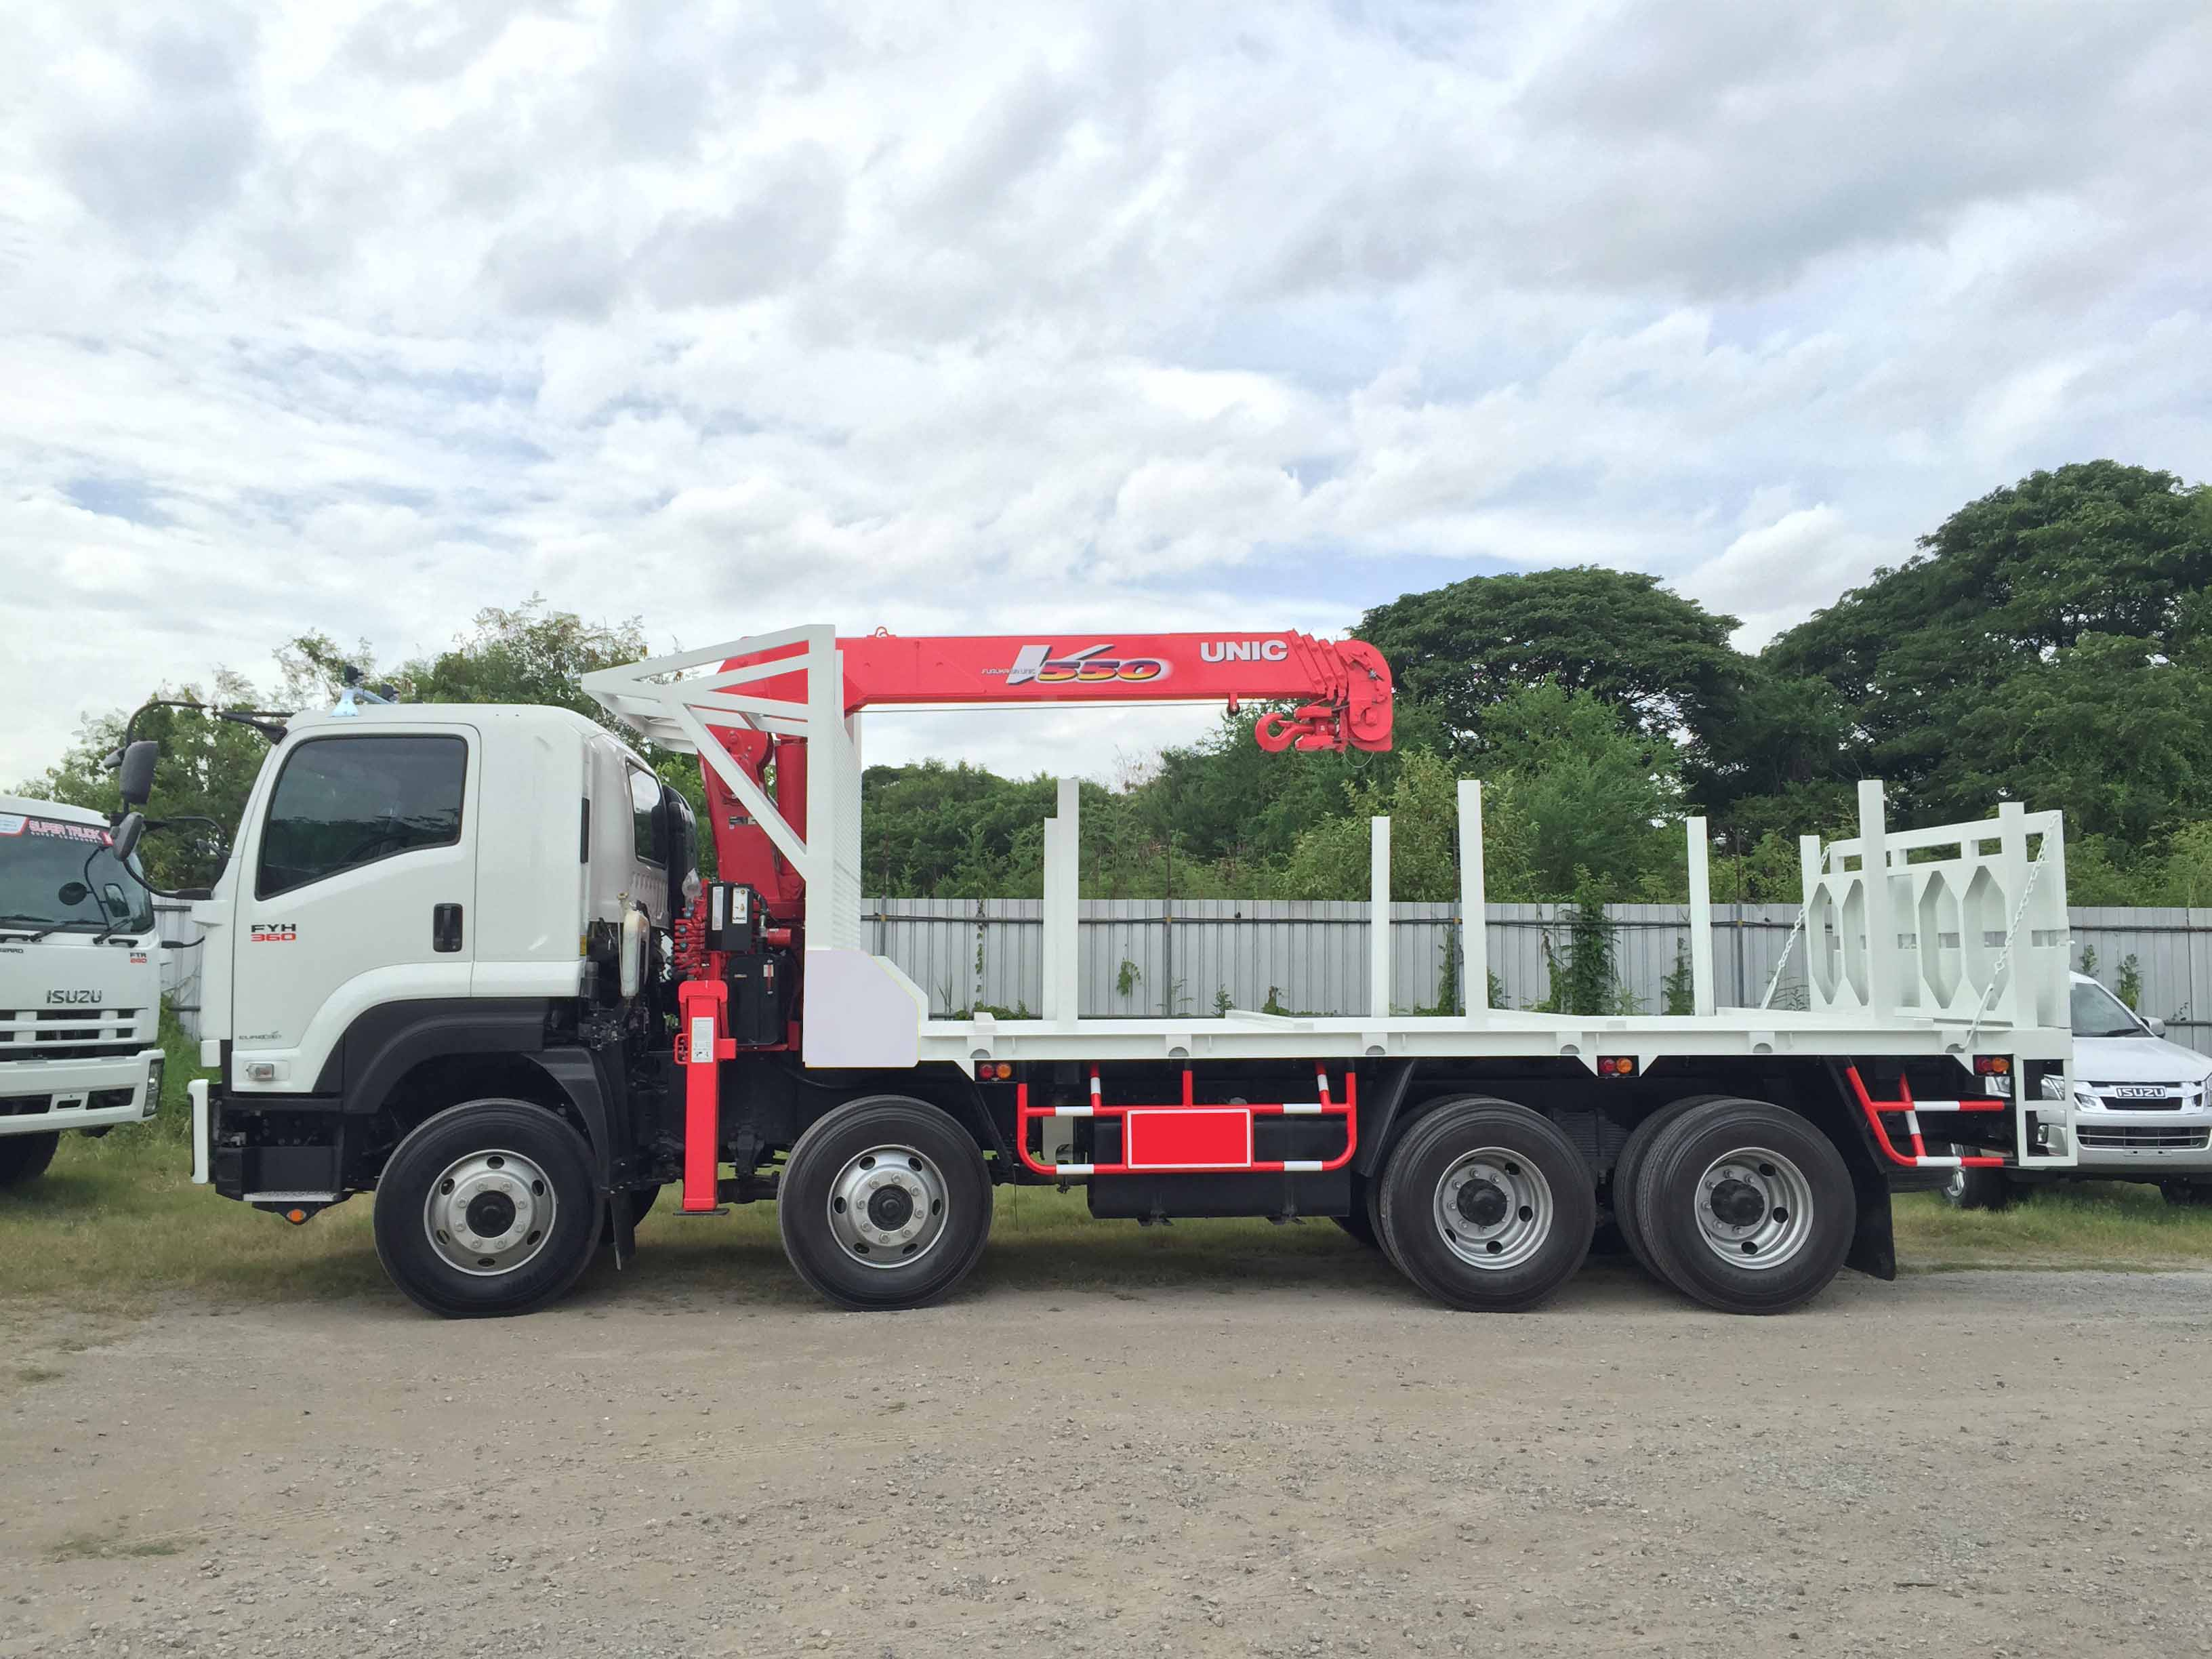truck: (181, 648, 2071, 1316)
